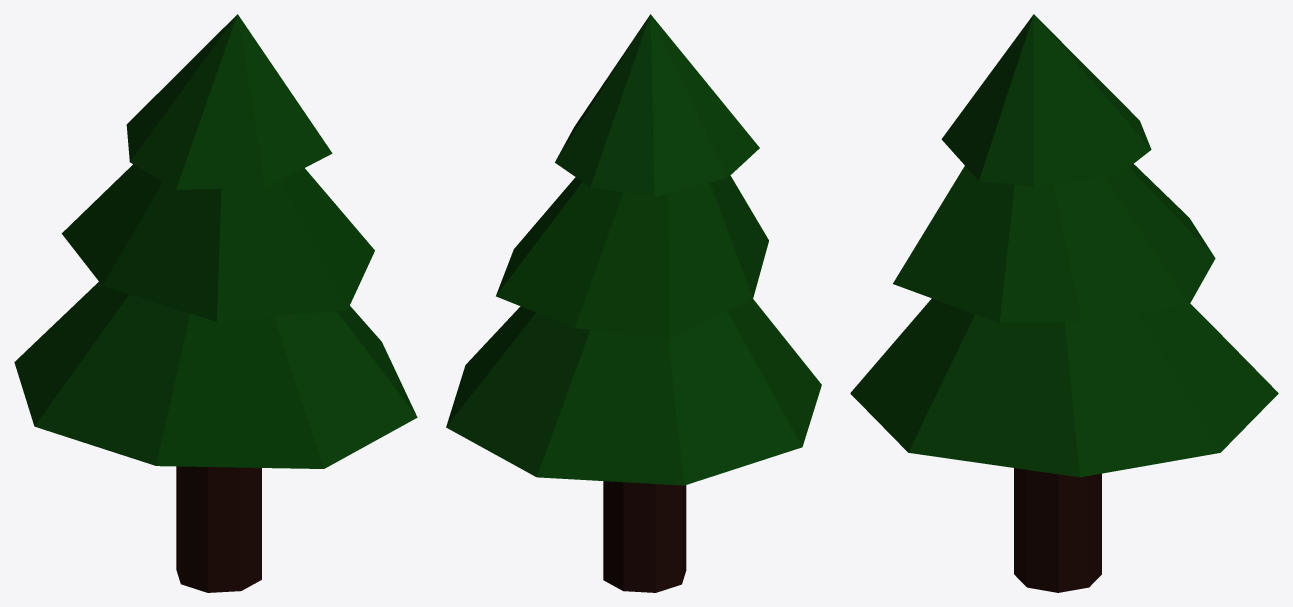
Rendered from arvore2.obj.
3 views of the same model, side by side, from view 1: azimuth 30°, elevation 25°; view 2: azimuth 150°, elevation 25°; view 3: azimuth 270°, elevation 25° (orthographic). The views are drawn at different scales.
Visible parts, largest first — view 1: Cylinder_Material.002_0, Cylinder_Material.001_0; view 2: Cylinder_Material.002_0, Cylinder_Material.001_0; view 3: Cylinder_Material.002_0, Cylinder_Material.001_0.
Boxes of the visible parts, <box> form: Cylinder_Material.002_0: <box>14,14,417,468</box>; Cylinder_Material.001_0: <box>176,466,261,592</box>; Cylinder_Material.002_0: <box>446,14,821,485</box>; Cylinder_Material.001_0: <box>603,481,686,592</box>; Cylinder_Material.002_0: <box>850,14,1278,477</box>; Cylinder_Material.001_0: <box>1014,468,1101,592</box>.
Bounding box in the file's own units: 279 × 436 × 301.
